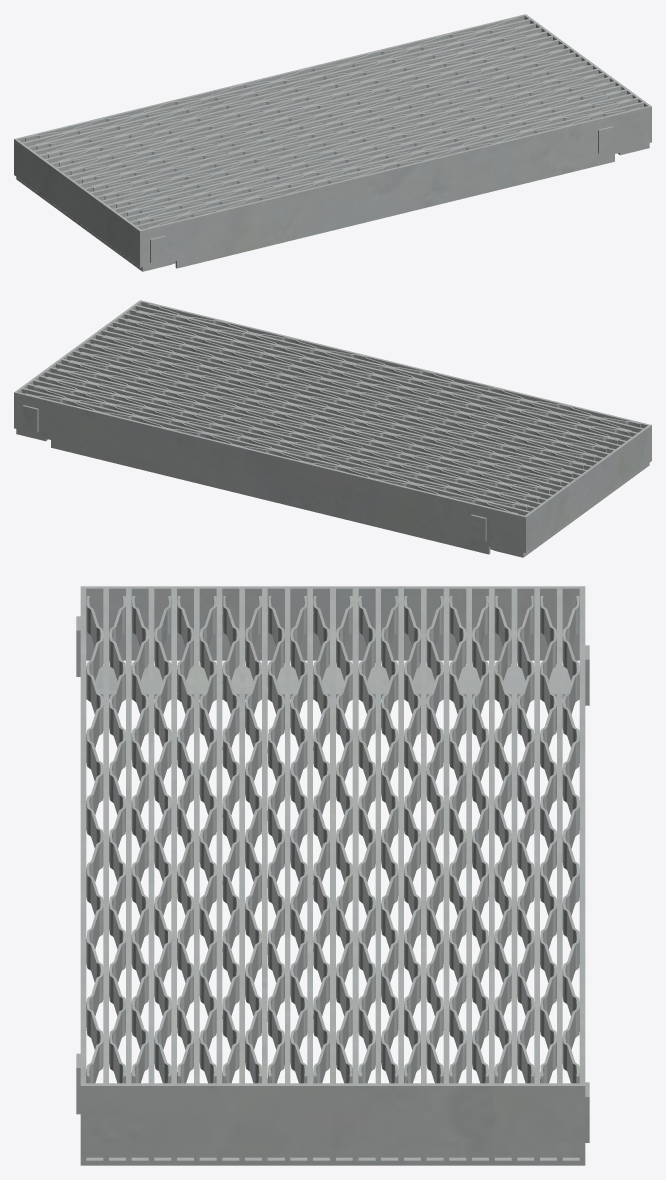
File: ms-revit-grating.glb
The picture shows the model from 3 angles, top to bottom: view 1: azimuth 30°, elevation 25°; view 2: azimuth 150°, elevation 25°; view 3: azimuth 270°, elevation 25°; orthographic projection. The views are drawn at different scales.
Parts seen in each view (by area): view 1: NAUO4_high; view 2: NAUO4_high; view 3: NAUO4_high.
Part boxes in pixels (x1,y1,x2,y2): NAUO4_high: (14,14,651,271); NAUO4_high: (14,300,651,557); NAUO4_high: (76,586,589,1165).
Bounding box in the file's own units: 1.32 × 0.1144 × 0.5751.
1 material, 1 textured.
